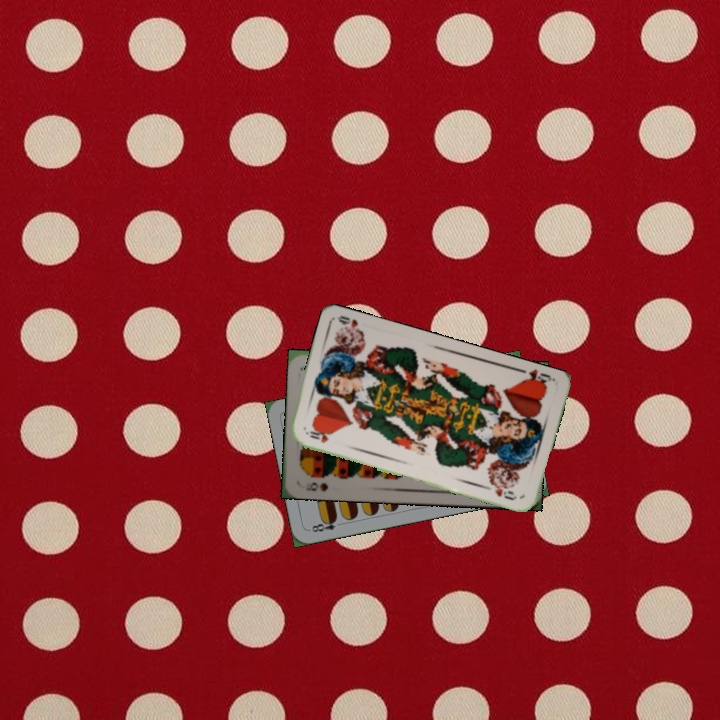E8: (306, 514, 339, 535)
HO: (519, 366, 556, 390), (301, 427, 331, 446)
S8: (302, 478, 331, 494)
